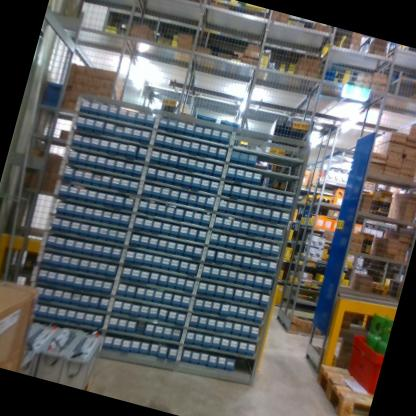pallet: (307, 354, 378, 416), (72, 362, 101, 392)
small_load_carrier: (334, 321, 390, 401)
